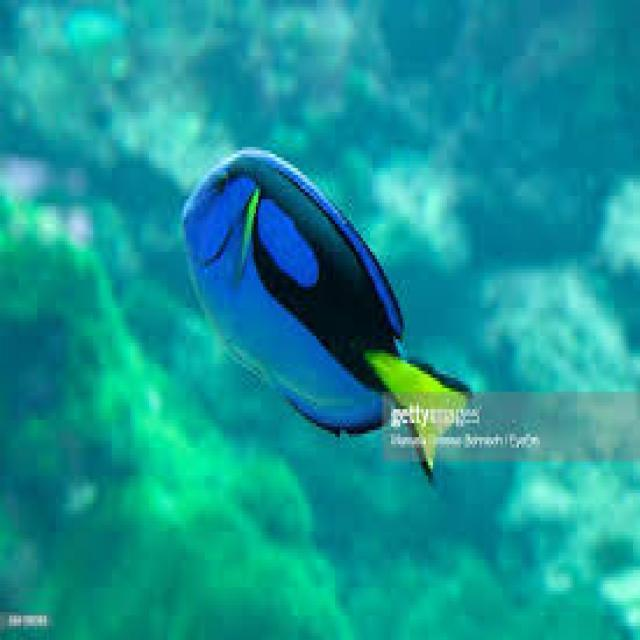TangFish: (178, 138, 476, 490)
